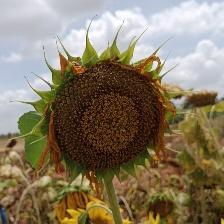sunflower: (45, 63, 175, 179)
